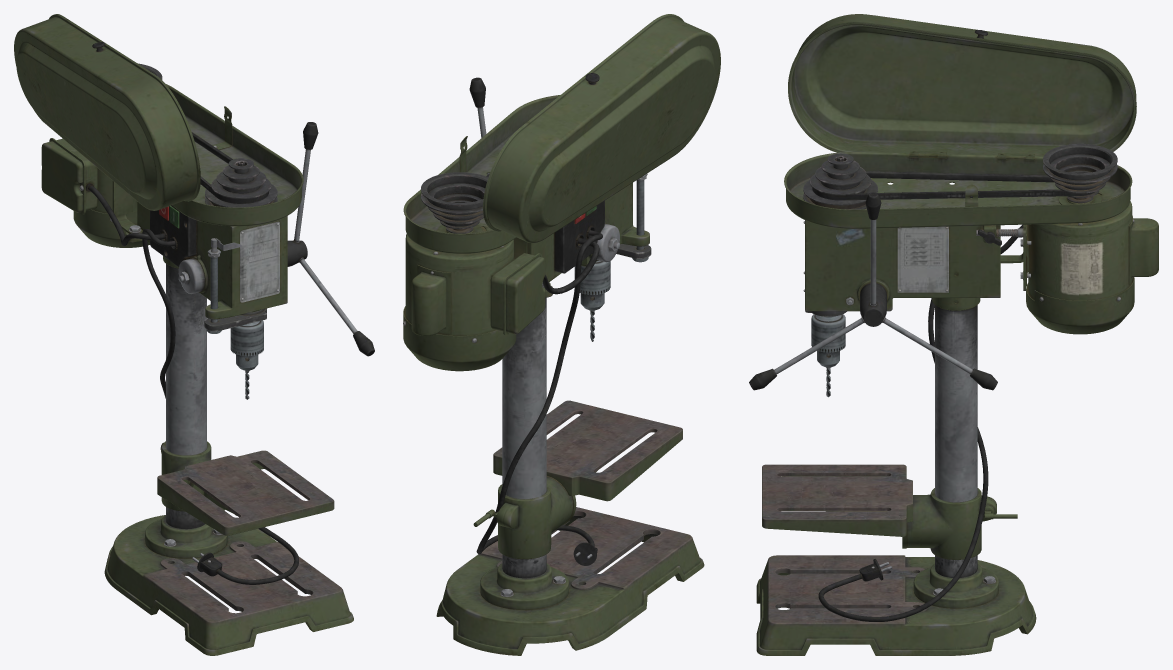
Rendered from drill_press_01.glb.
3 views of the same model, side by side, from view 1: azimuth 30°, elevation 25°; view 2: azimuth 150°, elevation 25°; view 3: azimuth 270°, elevation 25° (orthographic). The views are drawn at different scales.
Parts seen in each view (by area): view 1: drill_press_01, drill_press_01_lid, drill_press_01_plate, drill_press_01_gear_b, drill_press_01_plug, drill_press_01_handle, drill_press_01_limiter, drill_press_01_bit, drill_press_01_belt; view 2: drill_press_01, drill_press_01_lid, drill_press_01_plate, drill_press_01_gear_a, drill_press_01_plug, drill_press_01_bit, drill_press_01_limiter, drill_press_01_handle; view 3: drill_press_01, drill_press_01_lid, drill_press_01_plate, drill_press_01_handle, drill_press_01_gear_a, drill_press_01_belt, drill_press_01_plug, drill_press_01_gear_b, drill_press_01_bit.
Part boxes in pixels (left/top/right/bottom): drill_press_01: left=41, top=84, right=353, bottom=655; drill_press_01_lid: left=14, top=14, right=200, bottom=210; drill_press_01_plate: left=157, top=441, right=334, bottom=535; drill_press_01_gear_b: left=205, top=158, right=277, bottom=207; drill_press_01_plug: left=142, top=229, right=298, bottom=584; drill_press_01_handle: left=287, top=122, right=374, bottom=356; drill_press_01_limiter: left=204, top=238, right=266, bottom=333; drill_press_01_bit: left=230, top=320, right=263, bottom=399; drill_press_01_belt: left=191, top=132, right=268, bottom=203; drill_press_01: left=403, top=95, right=704, bottom=655; drill_press_01_lid: left=483, top=14, right=720, bottom=243; drill_press_01_plate: left=493, top=400, right=682, bottom=559; drill_press_01_gear_a: left=421, top=172, right=488, bottom=233; drill_press_01_plug: left=476, top=230, right=602, bottom=565; drill_press_01_bit: left=574, top=260, right=610, bottom=341; drill_press_01_limiter: left=616, top=173, right=651, bottom=262; drill_press_01_handle: left=469, top=77, right=489, bottom=174; drill_press_01: left=756, top=152, right=1158, bottom=655; drill_press_01_lid: left=788, top=14, right=1136, bottom=160; drill_press_01_plate: left=762, top=464, right=996, bottom=559; drill_press_01_handle: left=749, top=192, right=997, bottom=390; drill_press_01_gear_a: left=1043, top=143, right=1117, bottom=203; drill_press_01_belt: left=812, top=171, right=1095, bottom=200; drill_press_01_plug: left=818, top=298, right=988, bottom=621; drill_press_01_gear_b: left=803, top=153, right=877, bottom=209; drill_press_01_bit: left=811, top=314, right=845, bottom=397.
Size of the model in its own units: 0.3543 by 0.9011 by 0.5988.
1 material, 1 textured.
